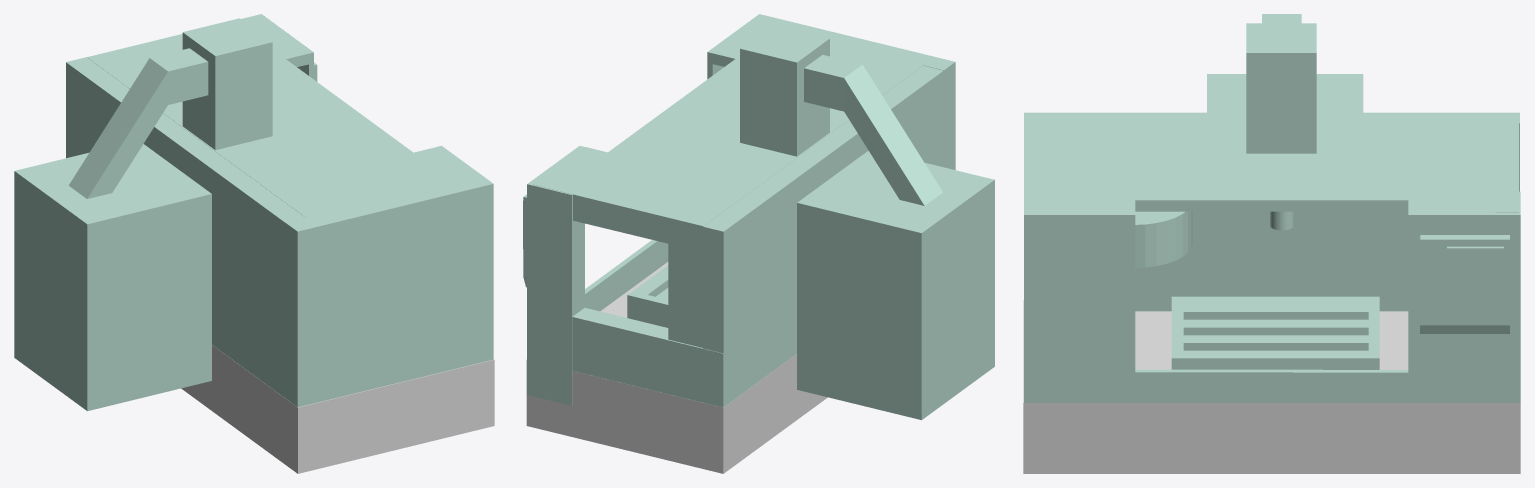
The model's file is CNC_MILLING_MASHINE1.fbx.
3 renders of one model, left to right at view 1: azimuth 30°, elevation 25°; view 2: azimuth 150°, elevation 25°; view 3: azimuth 270°, elevation 25°, orthographic. The views are drawn at different scales.
Visible parts, largest first — view 1: Куб, Cube; view 2: Куб, Cube; view 3: Куб, Cube.
Part boxes in pixels (bbox=[...]): Куб: bbox=[14, 14, 493, 411]; Cube: bbox=[181, 345, 494, 473]; Куб: bbox=[523, 14, 994, 420]; Cube: bbox=[526, 262, 827, 473]; Куб: bbox=[1024, 14, 1520, 402]; Cube: bbox=[1023, 300, 1520, 473].
Bounding box in the file's own units: 591 × 571 × 716.
